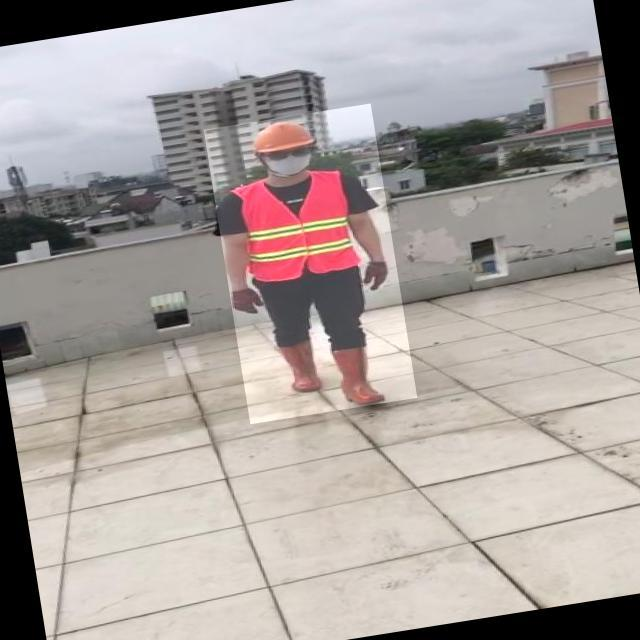Gloves: (231, 286, 267, 319), (364, 259, 396, 293)
Helmet: (243, 116, 326, 160)
Human: (204, 104, 419, 425)
Safety Boot: (334, 342, 389, 409), (279, 338, 325, 394)
Safety Vest: (232, 167, 364, 285)
